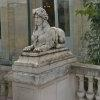Statue: (15, 2, 78, 64)
